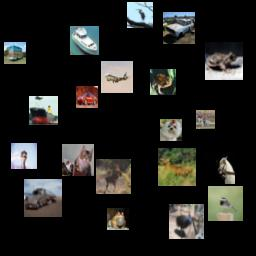airplane: (101, 61, 133, 93)
automobile: (163, 12, 195, 44), (76, 86, 98, 108)
bird: (208, 186, 243, 221), (169, 204, 204, 239), (127, 2, 153, 28), (11, 143, 37, 169)
cat: (62, 144, 94, 176)
deer: (158, 148, 196, 186), (96, 159, 131, 194)
dog: (160, 119, 182, 141)
frog: (205, 42, 243, 80), (150, 69, 176, 95), (107, 208, 129, 230)
ship: (70, 26, 99, 55), (29, 96, 58, 125)
truck: (24, 179, 62, 217), (4, 42, 26, 64)
